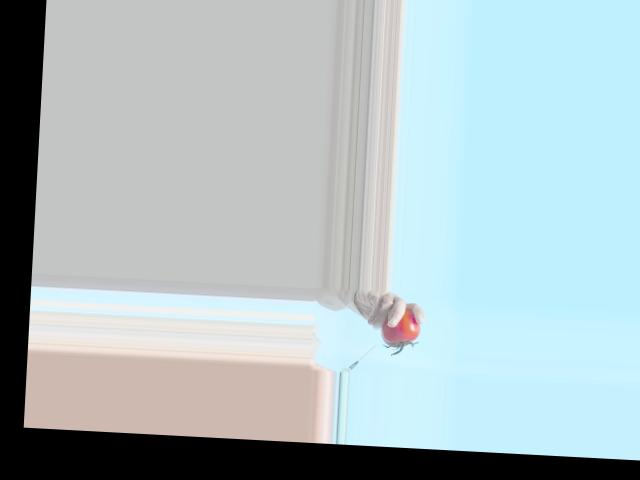tomato: (380, 307, 422, 348)
